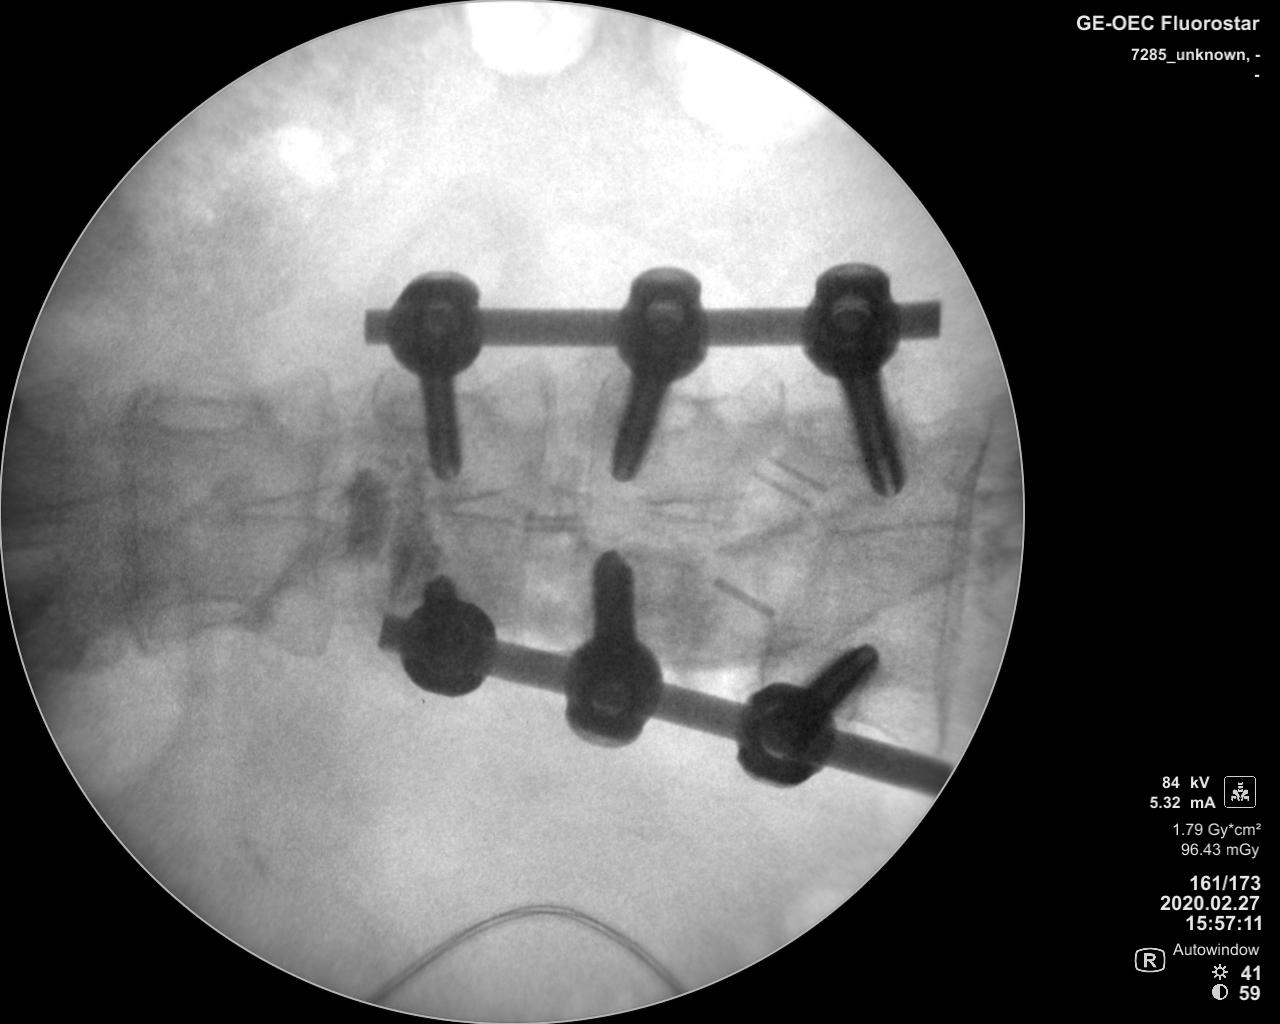eyes: (379, 388, 479, 435), (146, 394, 255, 437), (611, 385, 698, 434), (149, 592, 252, 630)
line: (928, 410, 992, 752), (504, 360, 560, 632), (110, 385, 150, 654), (310, 366, 336, 656)
nose: (31, 481, 185, 538), (427, 484, 584, 536), (223, 481, 357, 527), (636, 489, 784, 530)
